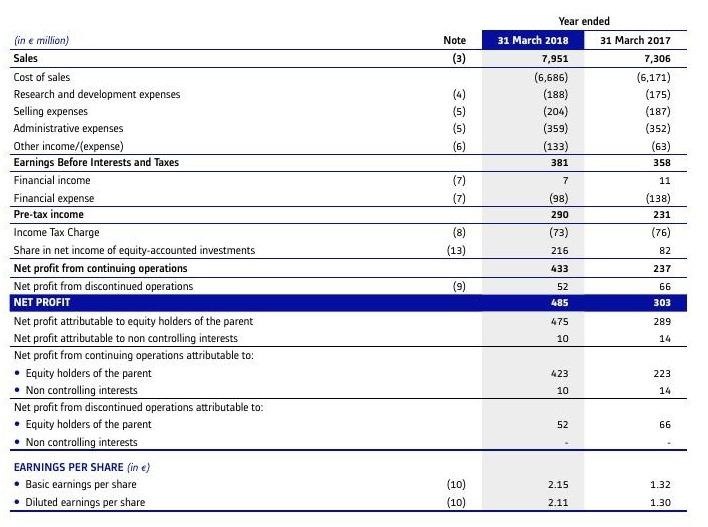table: (0, 0, 708, 527)
